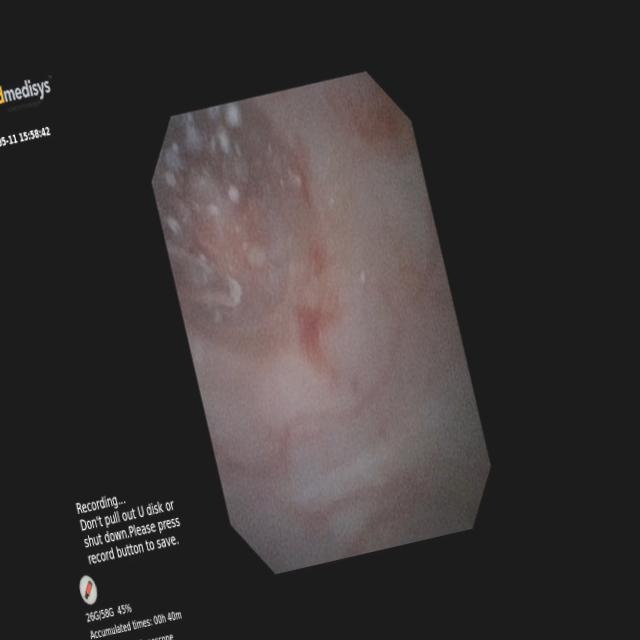laser-fibre: (167, 246, 241, 307)
